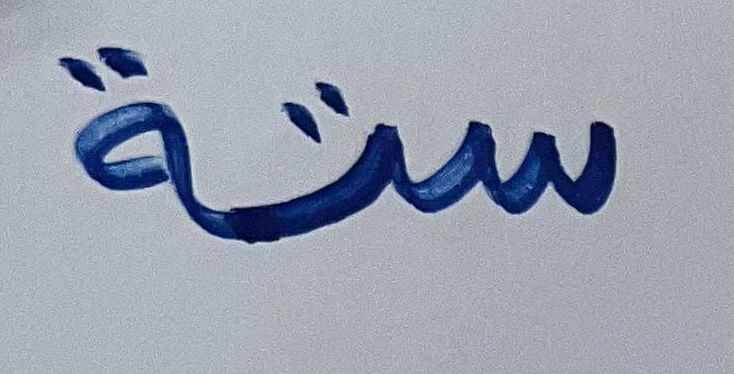seen: (416, 76, 638, 249)
teh: (218, 68, 410, 263)
teh_marbota: (39, 31, 213, 260)
